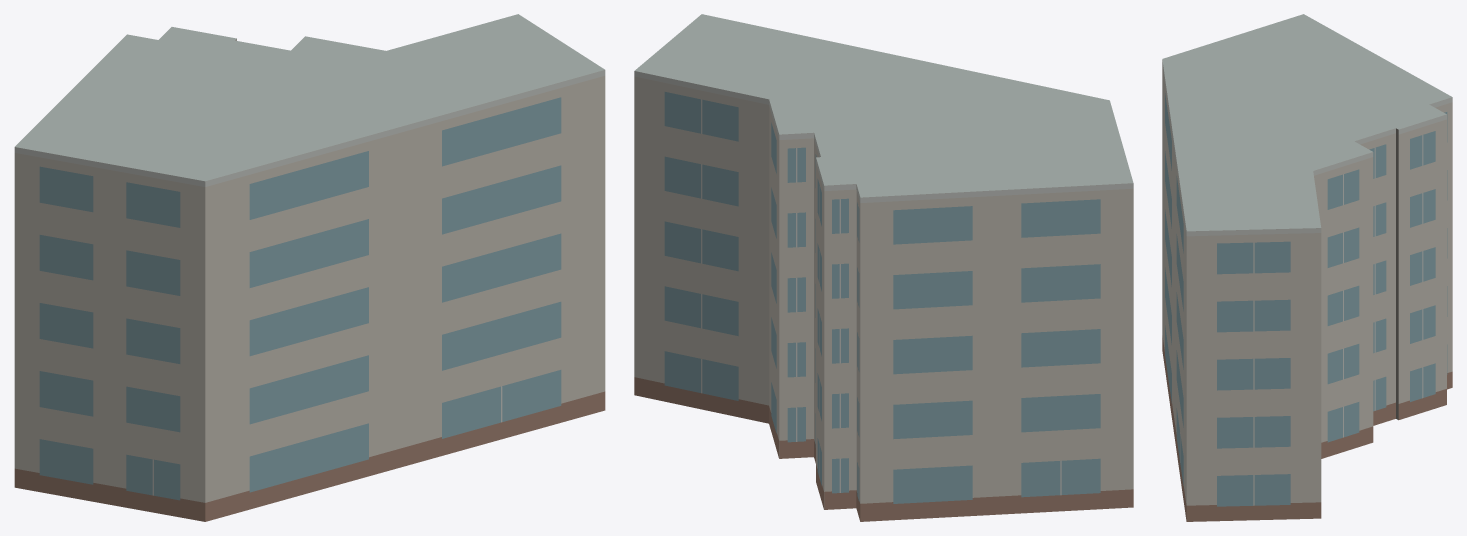
File: survey-upis-32654752.glb
The picture shows the model from 3 angles, left to right: view 1: azimuth 30°, elevation 25°; view 2: azimuth 150°, elevation 25°; view 3: azimuth 270°, elevation 25°; orthographic projection. The views are drawn at different scales.
Visible parts, largest first — view 1: survey-upis-32654752.tmp; view 2: survey-upis-32654752.tmp; view 3: survey-upis-32654752.tmp.
Part boxes in pixels (x1=…): survey-upis-32654752.tmp: x1=14, y1=14, x2=605, y2=521; survey-upis-32654752.tmp: x1=634, y1=14, x2=1133, y2=521; survey-upis-32654752.tmp: x1=1162, y1=14, x2=1452, y2=521.
Size of the model in its own units: 22.79 by 14.2 by 12.87.
